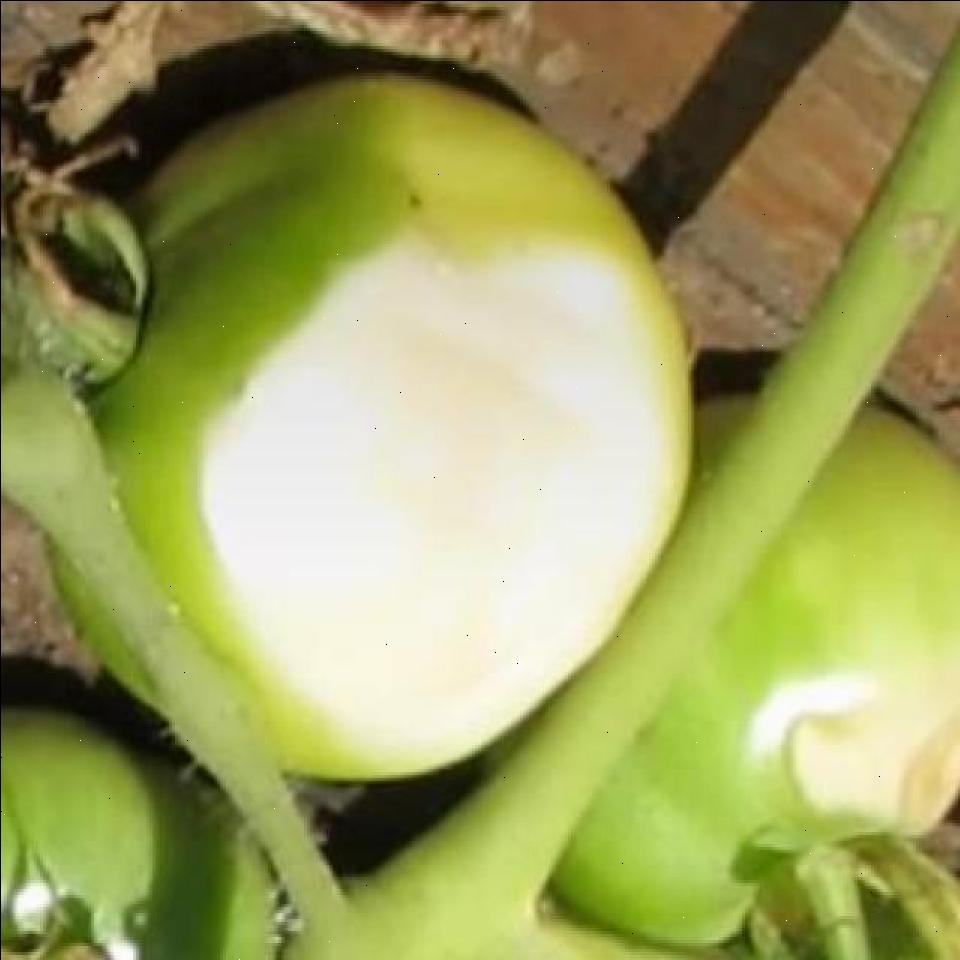Sunscald: (201, 213, 701, 810), (750, 616, 960, 850)
